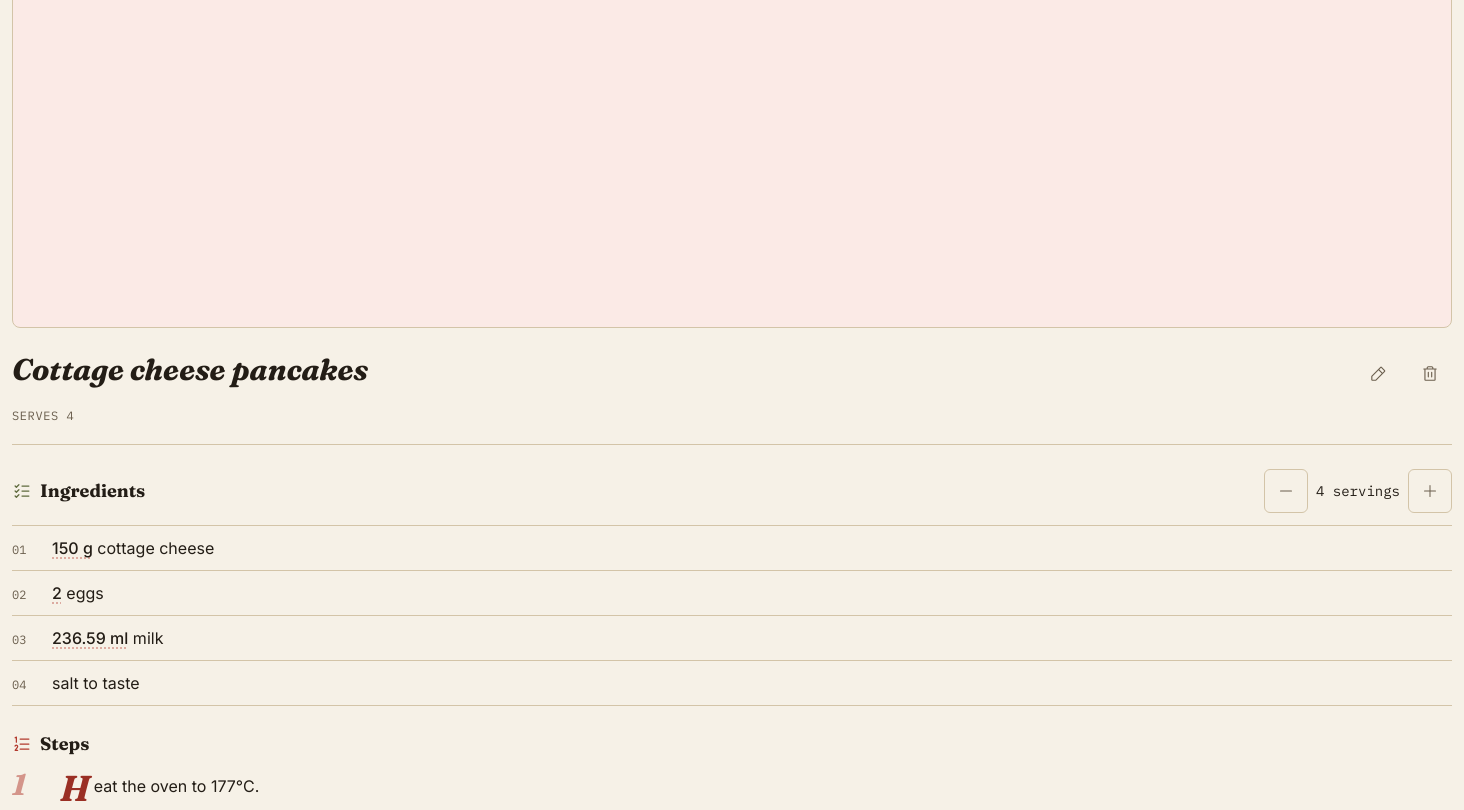
RecipeDetailPage — scaling › accepts another unit of the same kind
The width and height of the screenshot is (1464, 810).
(page scrolled)
Step 1. Click the button named "scale recipe from cottage cheese" → {"x": 72, "y": 548}, box [52,536,93,560]
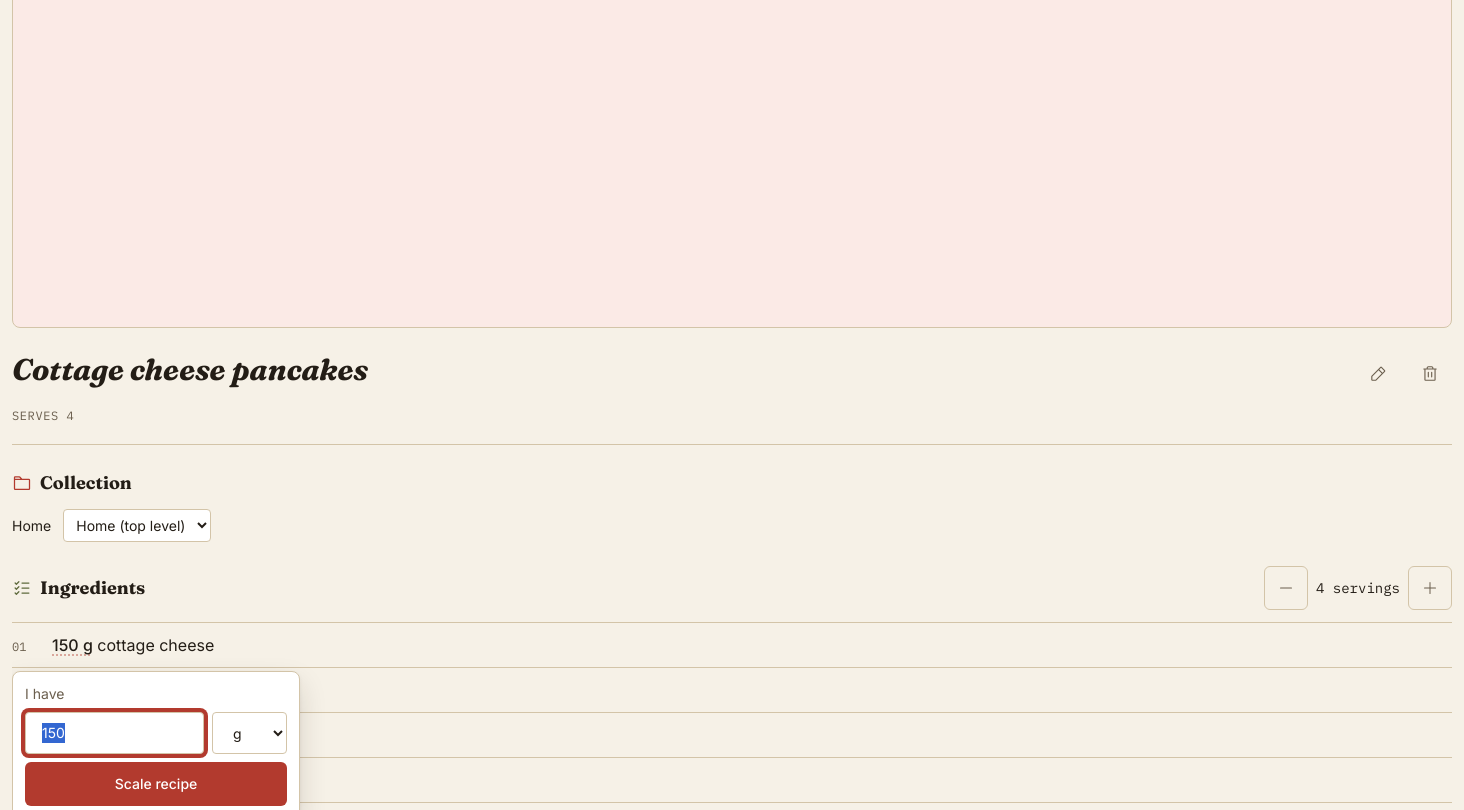
Step 2. Replace the text in the field labelled "I have" with "0.3" → {"x": 114, "y": 733}, box [25,712,204,754]
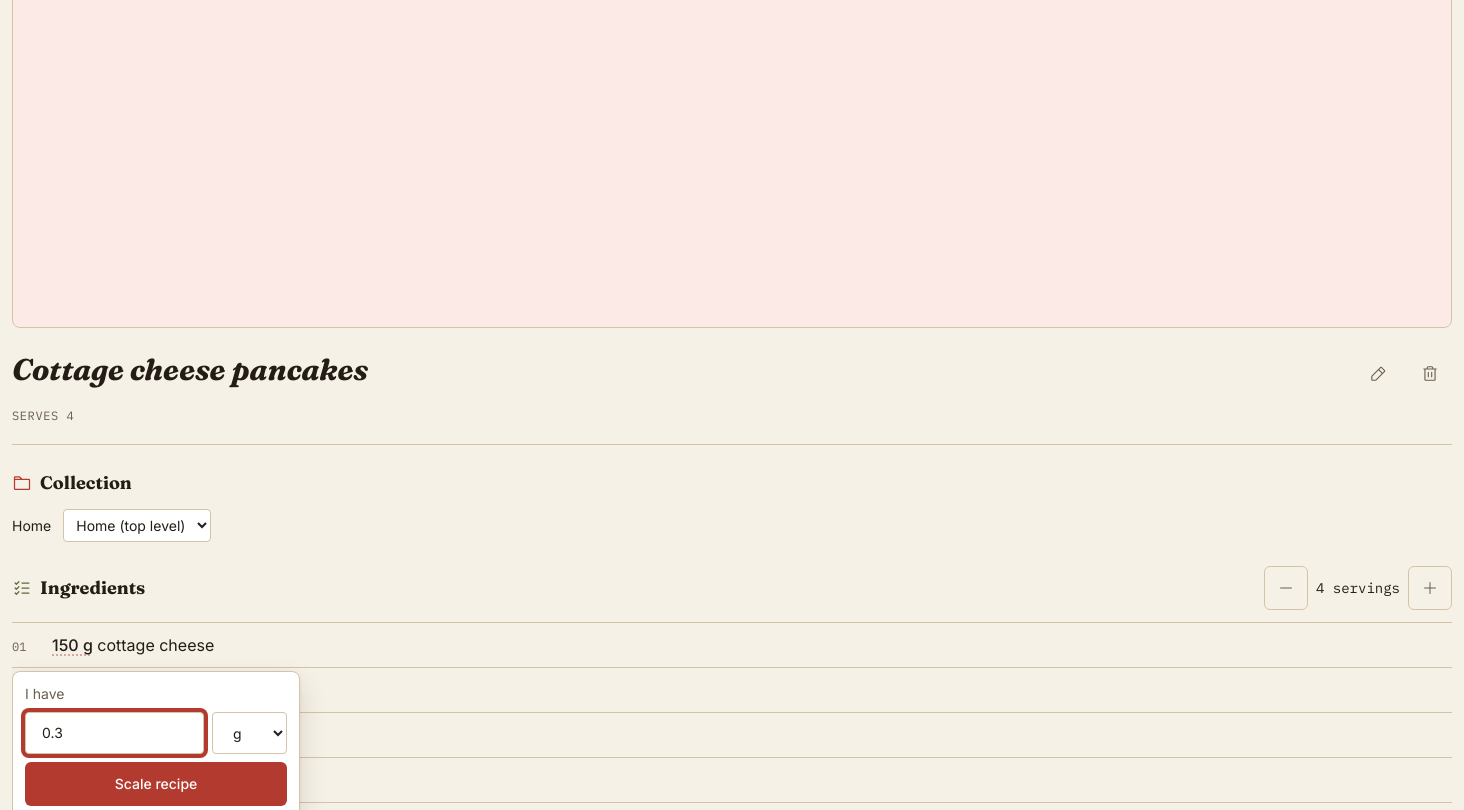
Step 3. Select "kg" in the dropdown named "Unit" → {"x": 250, "y": 733}, box [212,712,287,754]
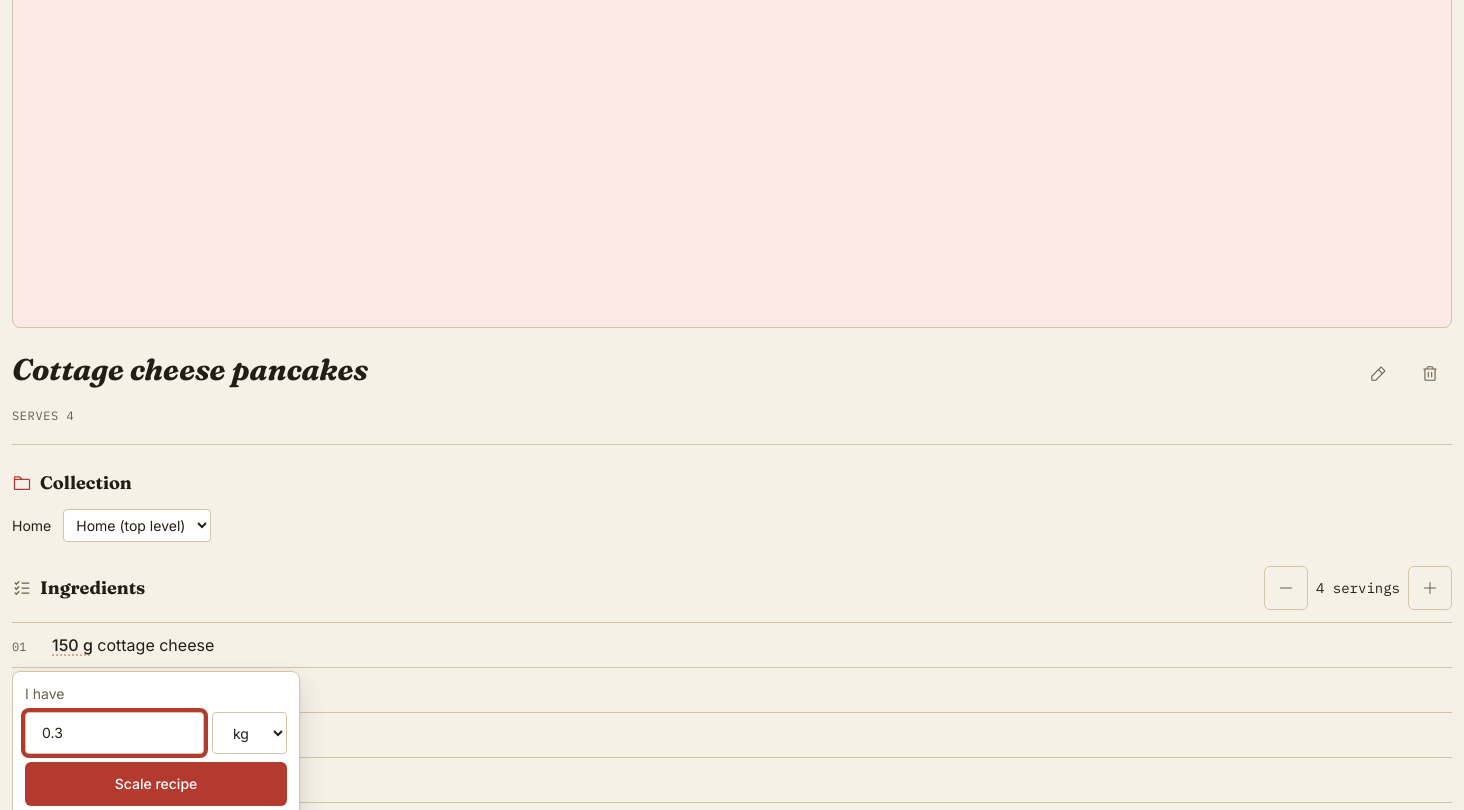
Step 4. Click the button "Scale recipe" → {"x": 156, "y": 784}, box [25,762,287,806]
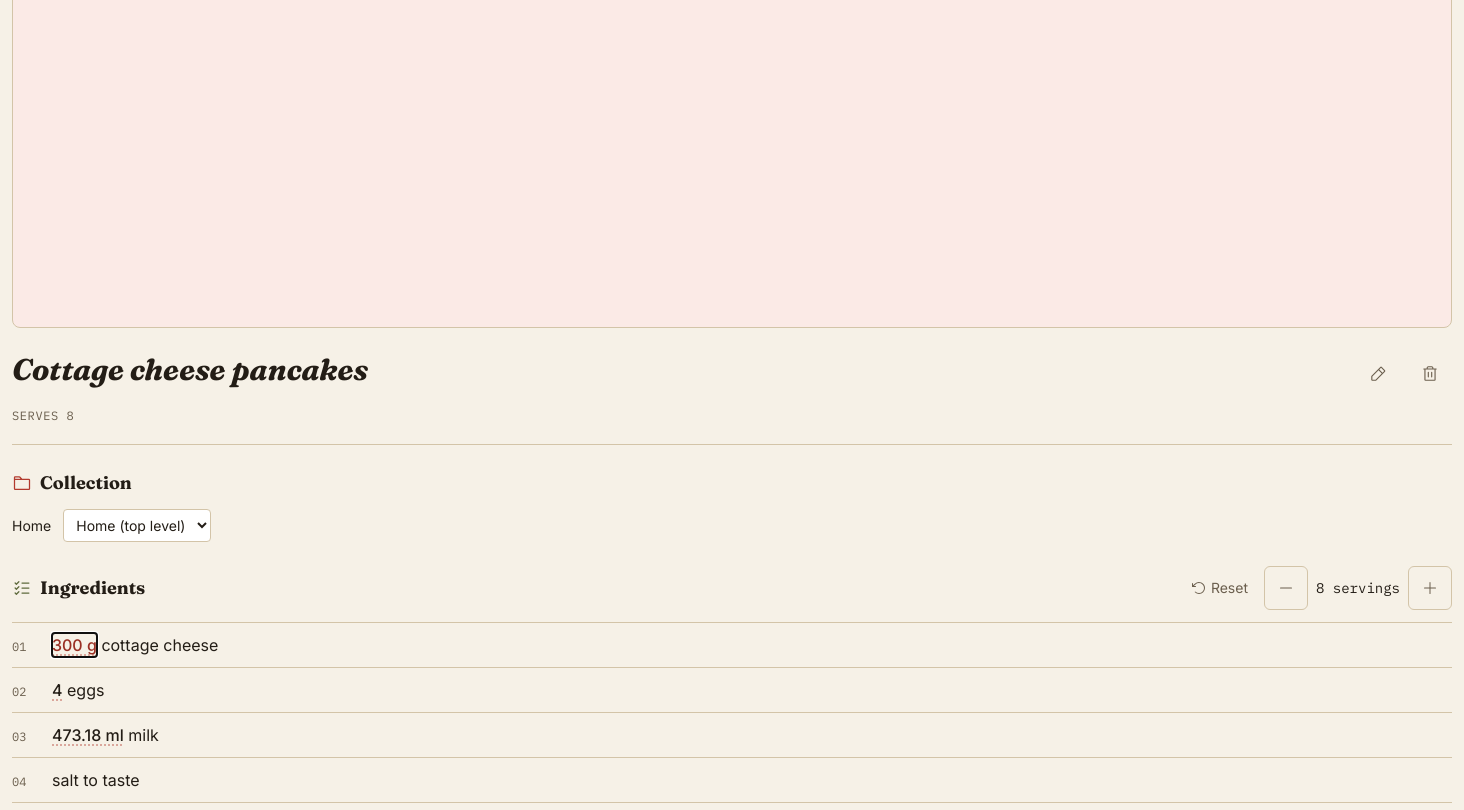
Now the text "8 servings" is shown, box [1316,578,1400,598]
